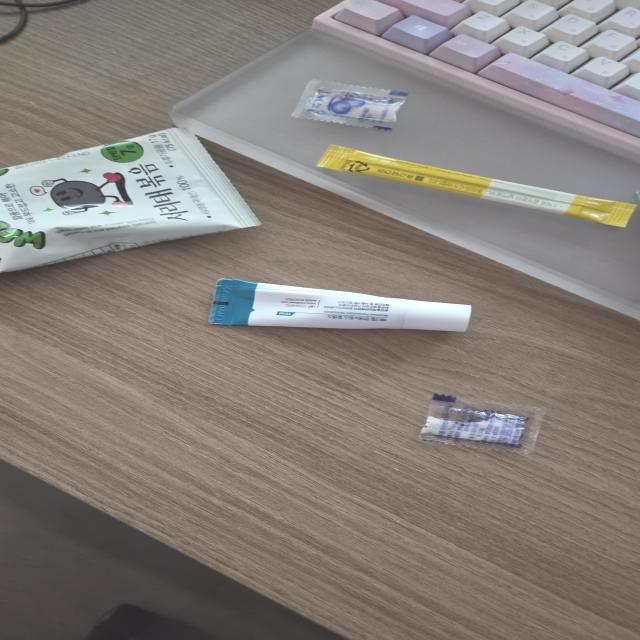lacto: (312, 142, 638, 228)
lib: (202, 278, 473, 334)
salt: (414, 392, 547, 458), (289, 75, 411, 132)
